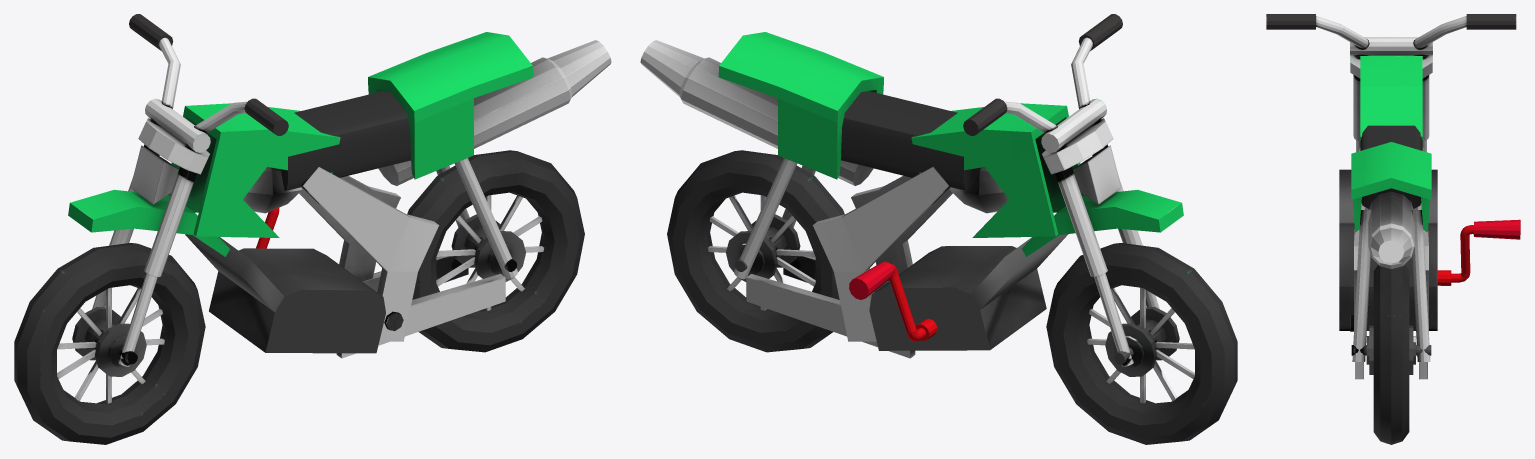
Rendered from xemay (1).fbx.
3 renders of one model, left to right at view 1: azimuth 30°, elevation 25°; view 2: azimuth 150°, elevation 25°; view 3: azimuth 270°, elevation 25°, orthographic. The views are drawn at different scales.
Parts seen in each view (by area): view 1: body6; view 2: body6, pCylinder5; view 3: body6, pCylinder5.
Part boxes in pixels (left/top/right/bottom): body6: left=14, top=14, right=611, bottom=444; body6: left=640, top=14, right=1237, bottom=444; pCylinder5: left=849, top=261, right=937, bottom=341; body6: left=1266, top=14, right=1516, bottom=444; pCylinder5: left=1437, top=219, right=1520, bottom=285.
Size of the model in its own units: 128 by 72.48 by 54.99.
